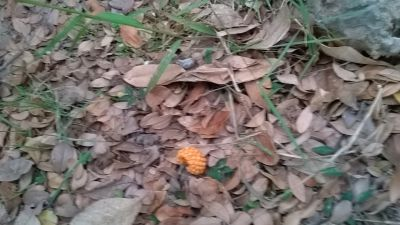eggs: (175, 146, 207, 177)
